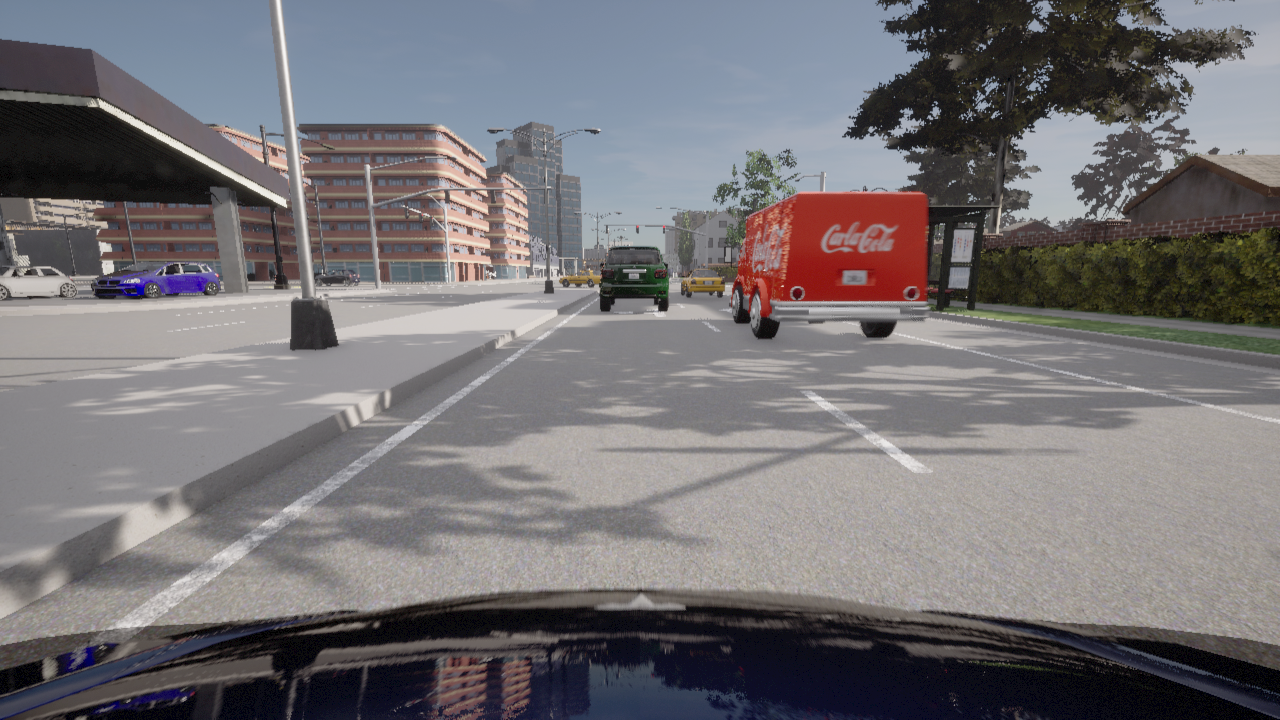cyclist: (0, 588, 1279, 719), (724, 192, 928, 337), (91, 261, 220, 298), (599, 245, 668, 311), (681, 266, 724, 297), (559, 269, 600, 287), (314, 270, 359, 285)
